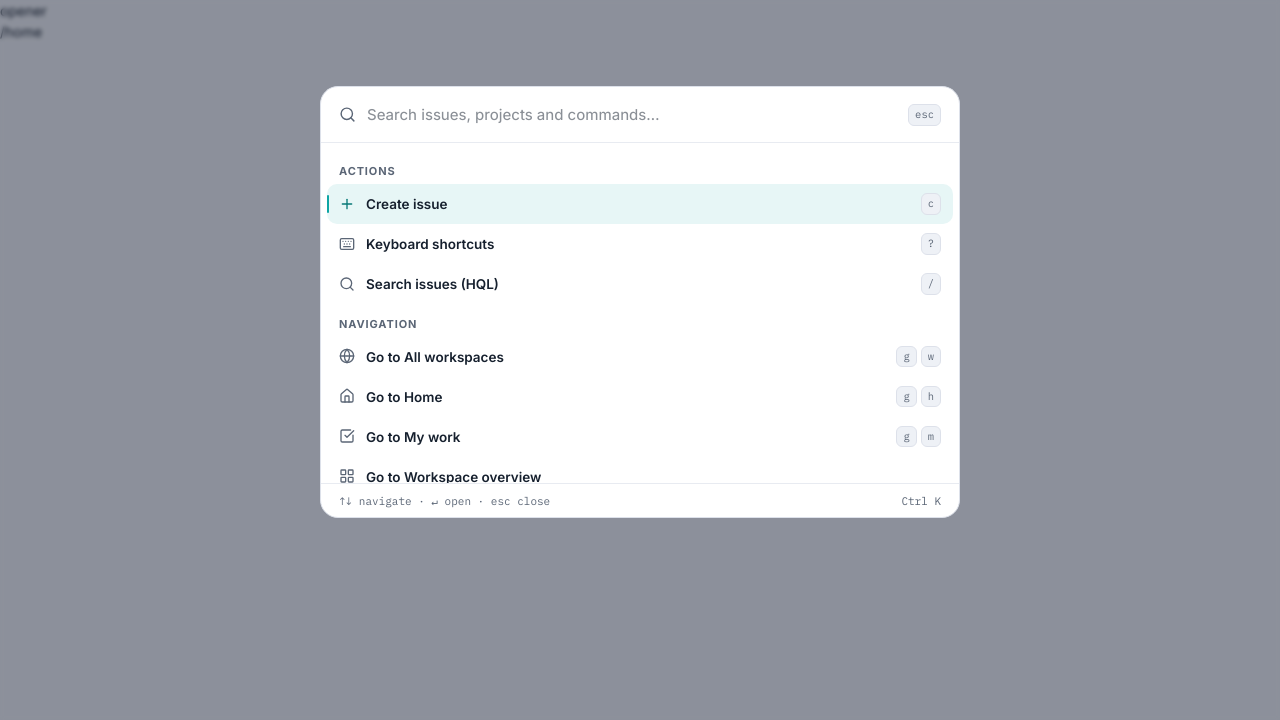
Test: CommandPalette — matching & sections › renders an empty state when nothing matches
The width and height of the screenshot is (1280, 720).
Expected: the text "Create issue" is shown, [366,196,448,212]
Type "zzzqqq" into the dropdown with placeholder "Search issues, projects and commands…" at (632, 115), box [367,104,897,126]
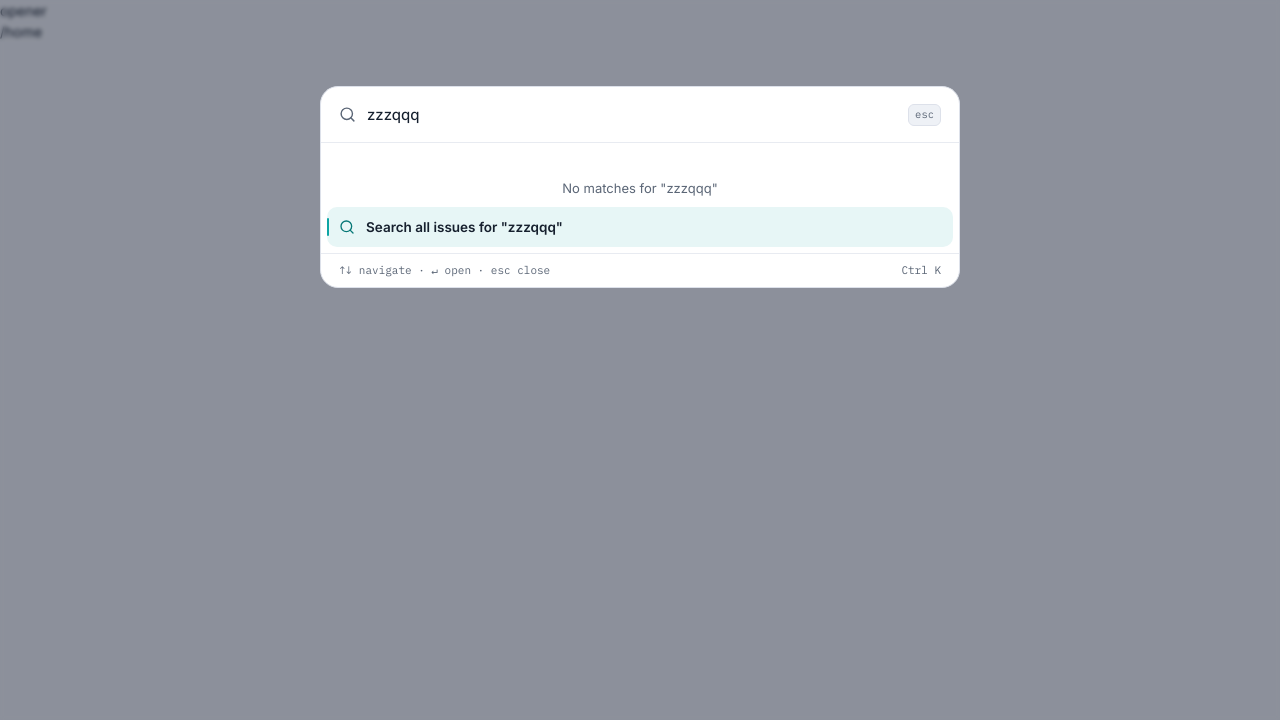
Result: the text "Search all issues for \"zzzqqq\"" is shown at [366,219,563,235]
Result: the number of options is 1 at [327,207,953,247]
Result: the text "No matches for \"zzzqqq\"" is shown at [562,180,718,196]
